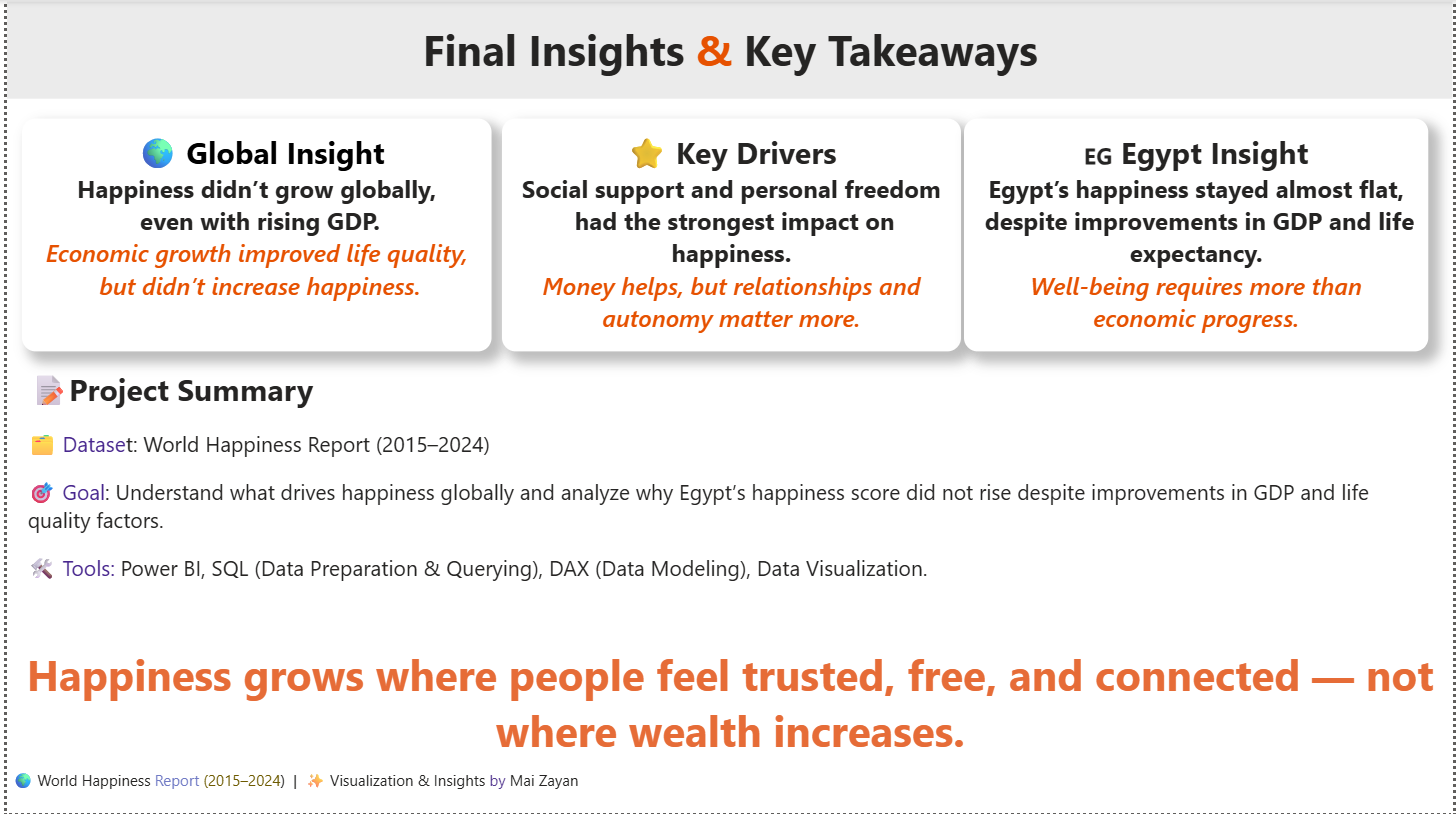

This screenshot's page, from the dashboard's own definition file:
{"tool":"powerbi","page":{"name":"🚀Final Insights","canvas":[1280,720],"ordinal":6},"visuals":[{"type":"shape","box":[0,1.5,1279.5,86.3],"z":0},{"type":"textbox","box":[0,13.6,1279.5,74.2],"z":1000},{"type":"textbox","box":[13.2,105.2,415.1,206.1],"z":2000},{"type":"textbox","box":[437.6,104.5,405.8,205.9],"z":3000},{"type":"textbox","box":[846.2,105.2,410.7,206.1],"z":4000},{"type":"textbox","box":[0,548.1,1279.5,127.2],"z":5000},{"type":"textbox","box":[0,675.3,1265.9,43.9],"z":6000},{"type":"textbox","box":[13.6,321,1243.2,205.9],"z":7000}]}

Visuals, with their boxes in screenshot pixels (x1, y1, x2, y2), scaled from the page's 1280x720 canvas onto the 1456x814 screenshot:
shape: Rect(0, 2, 1455, 99)
textbox: Rect(0, 15, 1455, 99)
textbox: Rect(15, 119, 487, 352)
textbox: Rect(498, 118, 959, 351)
textbox: Rect(963, 119, 1430, 352)
textbox: Rect(0, 620, 1455, 763)
textbox: Rect(0, 763, 1440, 813)
textbox: Rect(15, 363, 1430, 596)
